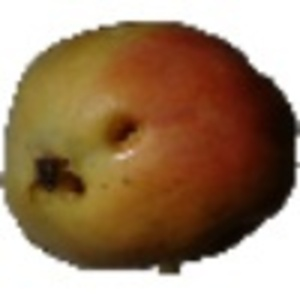mamão: (3, 17, 298, 280)
